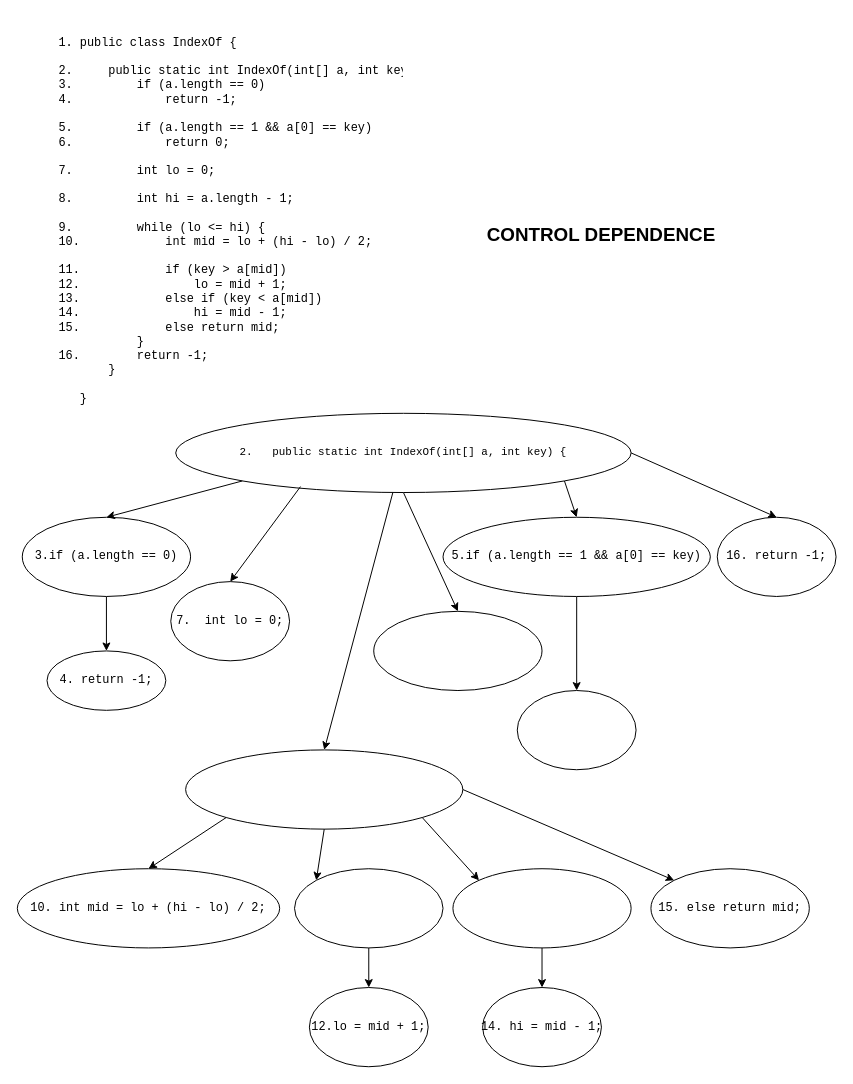
This 853x1084 diagram has some shape labels left out. The centre of each missing label's shape, as x and y in pixels:
"11.if (key > a[mid])" goes at point 368,908.
"13. else if (key < a[mid])" goes at point 541,908.
"6. return 0;" goes at point 576,730.
"8. int hi = a.length - 1;" goes at point 457,650.
"9. while (lo <= hi) {" goes at point 324,789.
